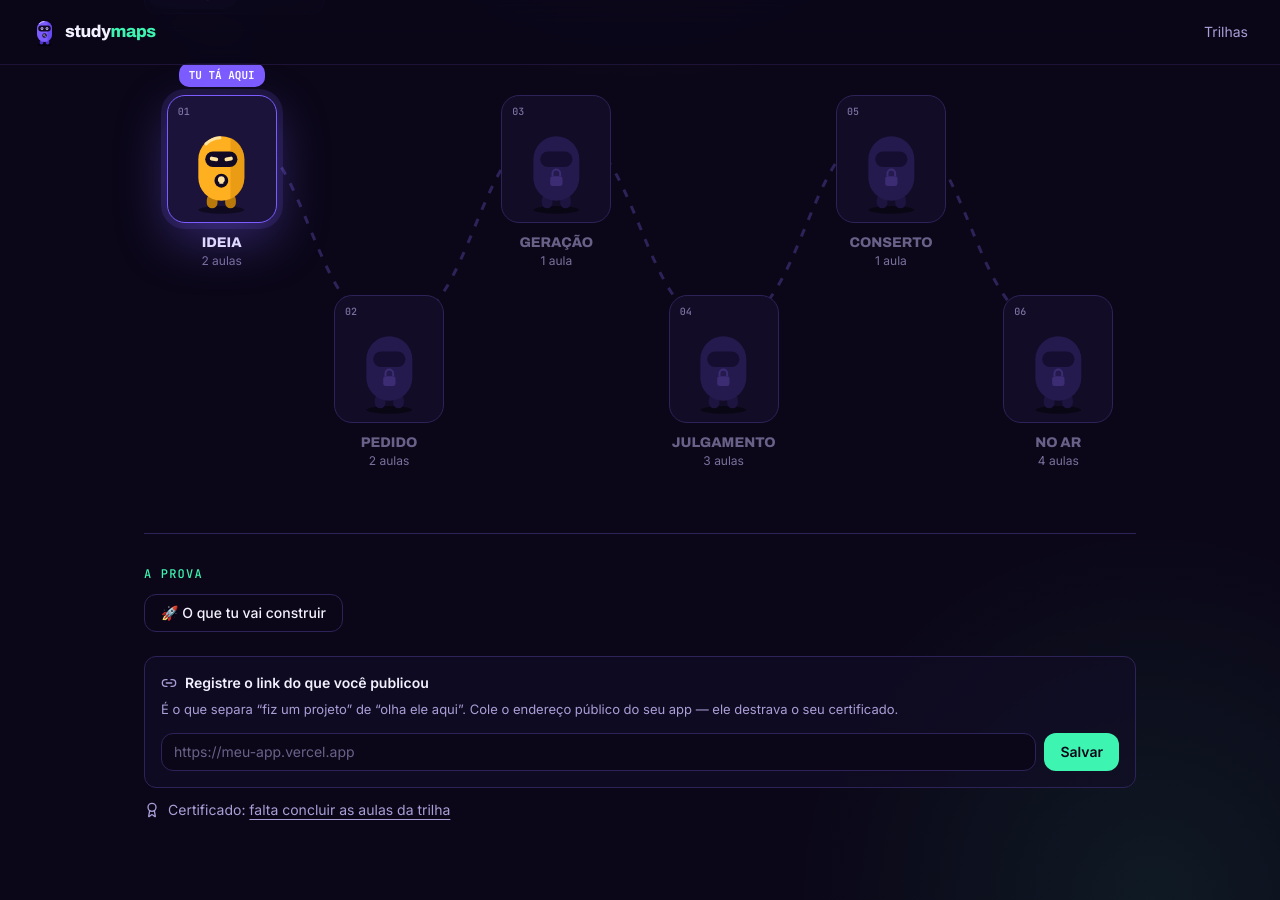
Test: smoke — páginas renderizam sem quebrar › link inválido no registro da prova avisa e não salva
The width and height of the screenshot is (1280, 900).
(page scrolled)
Step 1. Type "meu app ta pronto" into the field named "Link do seu projeto publicado" → x=599, y=752, box [161, 732, 1036, 770]
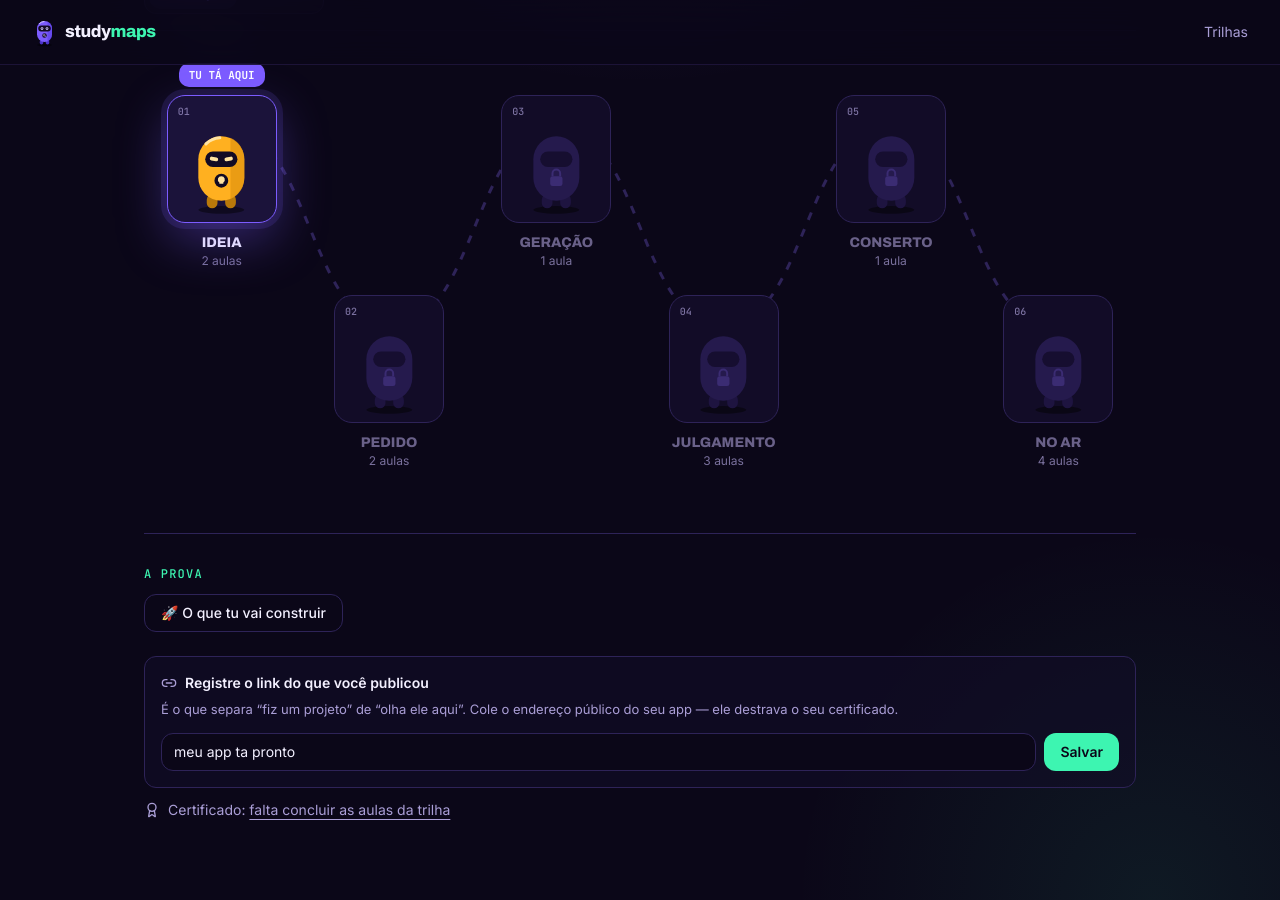
Step 2. Click the button "Salvar" → x=1082, y=752, box [1044, 732, 1119, 770]
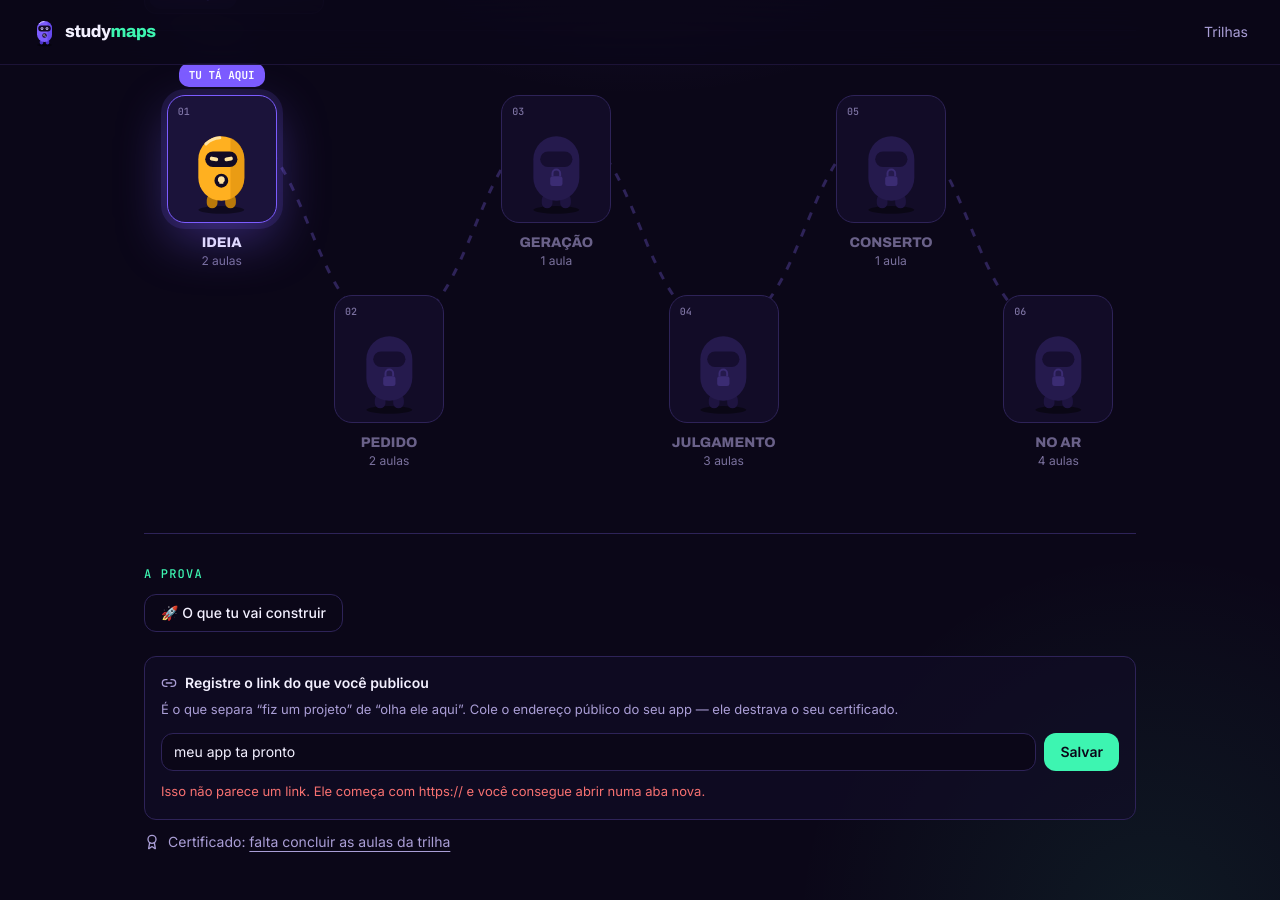
Now the message shows "não parece um link", box [161, 782, 705, 798]
